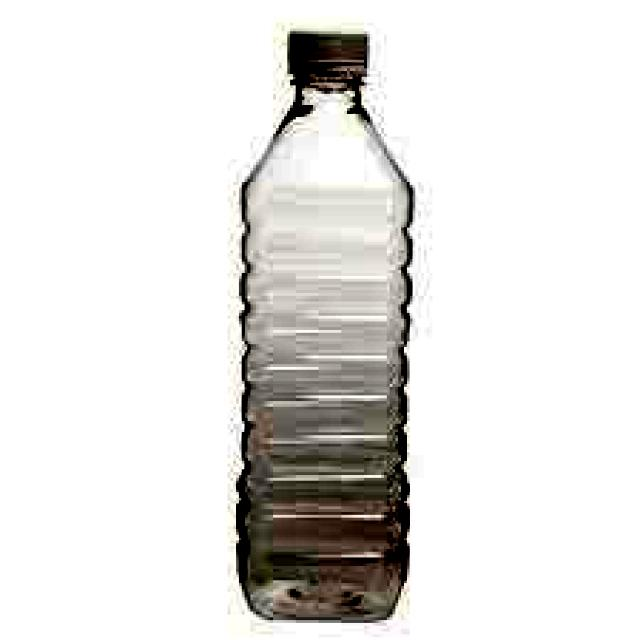Plastic: (233, 27, 418, 628)
